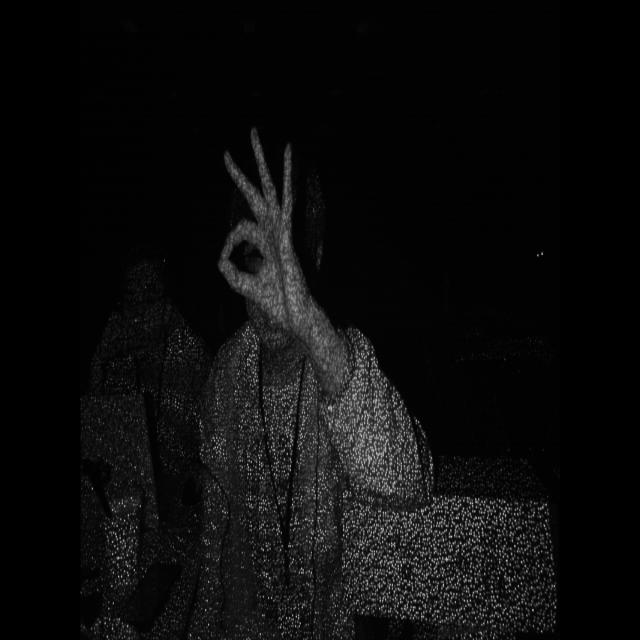F: (210, 112, 316, 344)
